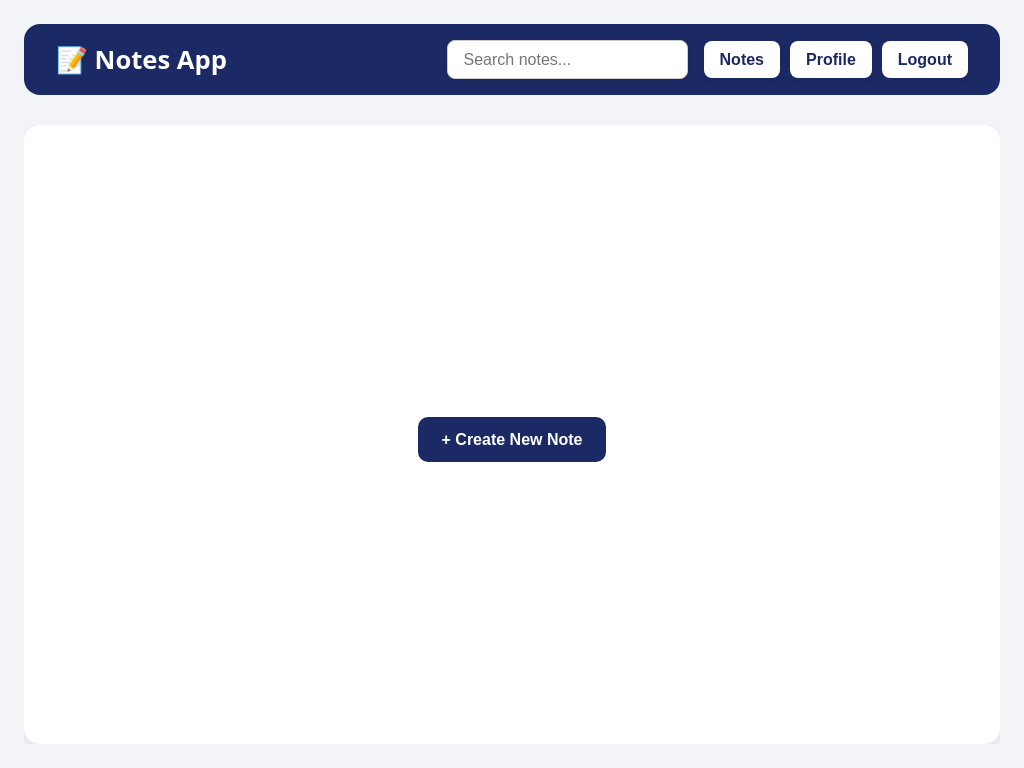
Test: Dashboard Component › displays saved notes when toggled
What coordinates should you click on to do the following:
click the button "Notes"
I would click on:
 (742, 60)
Its box is [704,41,780,78].
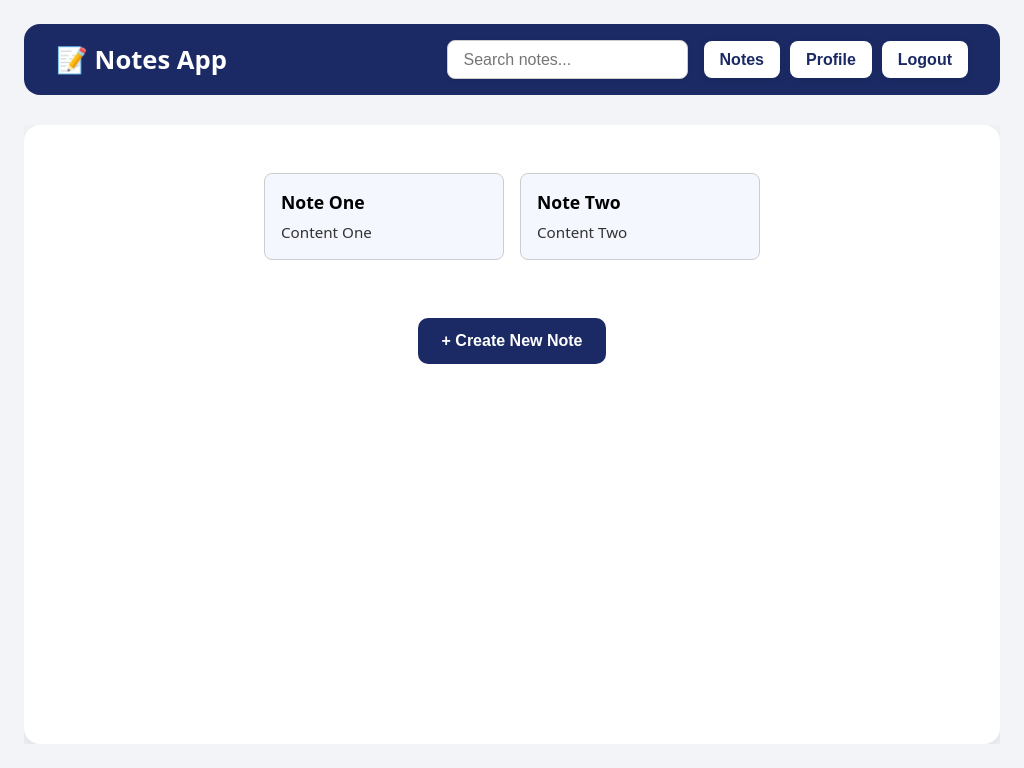
expect the heading "Note One" is shown: met, box [281,190,365,214]
expect the heading "Note Two" is shown: met, box [537,190,621,214]
